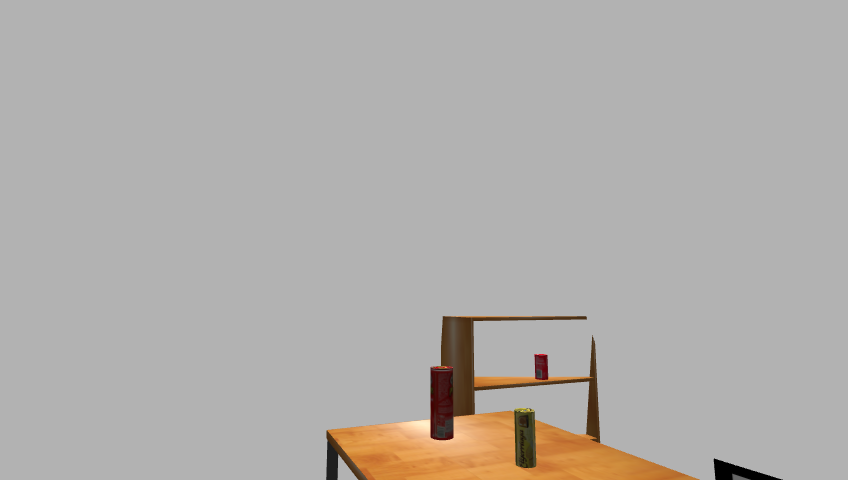aruco marker: (709, 458, 810, 480)
biscuits pack: (513, 408, 538, 470)
bookshelf: (433, 312, 593, 480)
coke can: (532, 353, 551, 381)
dinner table: (319, 411, 722, 480)
pringles can: (428, 365, 455, 442)
